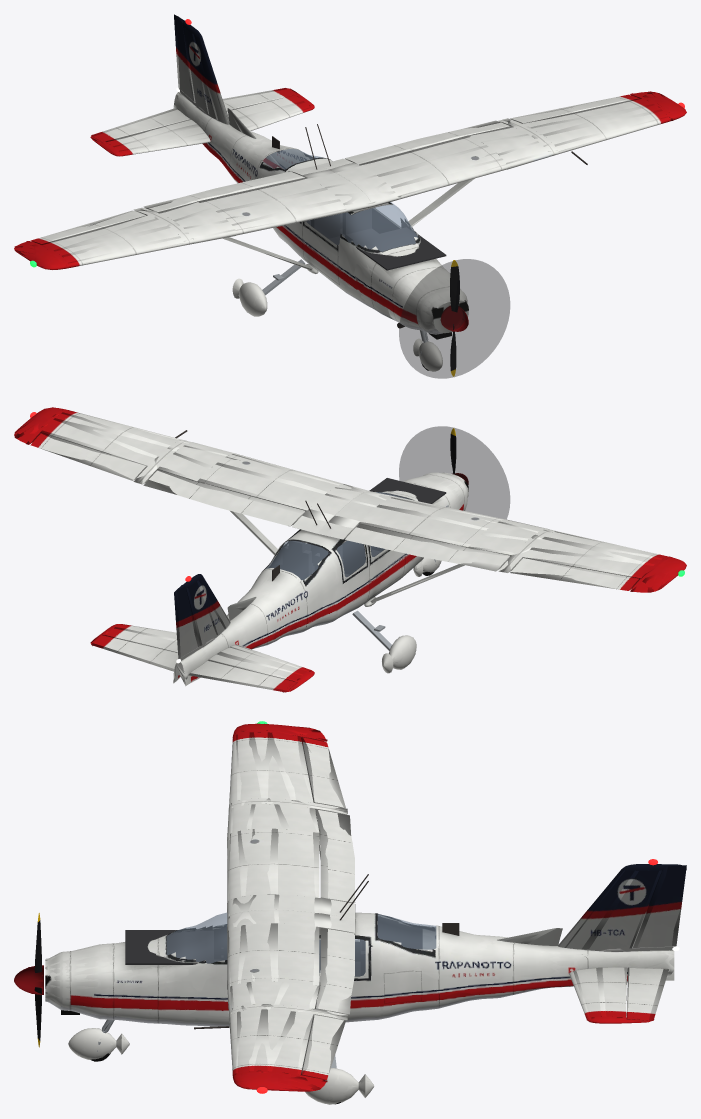
3 renders of one model, top to bottom at view 1: azimuth 30°, elevation 25°; view 2: azimuth 150°, elevation 25°; view 3: azimuth 270°, elevation 25°, orthographic. The views are drawn at different scales.
Parts seen in each view (by area): view 1: Skin_LOD2_mesh, Wing_L_LOD0_mesh, Wing_R_LOD0_mesh, Fuselage_LOD1_mesh, PropDisc_LOD0_mesh, Cabin_LOD0_mesh, Glass_LOD1_mesh, HStab_LOD0_mesh, Fin_LOD0_mesh, Glass_LOD0_mesh, Fuselage_LOD0_mesh, Flap_L_LOD0_mesh (+10 smaller); view 2: Skin_LOD2_mesh, Wing_L_LOD0_mesh, Wing_R_LOD0_mesh, Fuselage_LOD1_mesh, PropDisc_LOD0_mesh, Cabin_LOD0_mesh, HStab_LOD0_mesh, Flap_L_LOD0_mesh, Flap_R_LOD0_mesh, Glass_LOD1_mesh, Fuselage_LOD0_mesh, Fin_LOD0_mesh (+8 smaller); view 3: Skin_LOD2_mesh, Fuselage_LOD1_mesh, Wing_R_LOD0_mesh, Wing_L_LOD0_mesh, Cabin_LOD0_mesh, Fin_LOD0_mesh, Fuselage_LOD0_mesh, Glass_LOD1_mesh, HStab_LOD0_mesh, Glass_LOD0_mesh, Flap_R_LOD0_mesh, Rudder_LOD0_mesh (+7 smaller).
Boxes of the visible parts, bbox=[...] form: Skin_LOD2_mesh: bbox=[14, 14, 685, 334]; Wing_L_LOD0_mesh: bbox=[317, 92, 686, 206]; Wing_R_LOD0_mesh: bbox=[14, 165, 372, 269]; Fuselage_LOD1_mesh: bbox=[173, 92, 468, 334]; PropDisc_LOD0_mesh: bbox=[399, 259, 509, 377]; Cabin_LOD0_mesh: bbox=[306, 157, 446, 270]; Glass_LOD1_mesh: bbox=[264, 149, 416, 251]; HStab_LOD0_mesh: bbox=[91, 88, 313, 156]; Fin_LOD0_mesh: bbox=[176, 15, 229, 124]; Glass_LOD0_mesh: bbox=[264, 149, 415, 250]; Fuselage_LOD0_mesh: bbox=[174, 99, 461, 332]; Flap_L_LOD0_mesh: bbox=[345, 122, 509, 164]; Skin_LOD2_mesh: bbox=[14, 407, 685, 692]; Wing_L_LOD0_mesh: bbox=[14, 407, 369, 533]; Wing_R_LOD0_mesh: bbox=[317, 491, 686, 592]; Fuselage_LOD1_mesh: bbox=[173, 472, 468, 686]; PropDisc_LOD0_mesh: bbox=[399, 427, 509, 518]; Cabin_LOD0_mesh: bbox=[268, 478, 446, 579]; HStab_LOD0_mesh: bbox=[91, 624, 314, 691]; Flap_L_LOD0_mesh: bbox=[149, 470, 301, 526]; Flap_R_LOD0_mesh: bbox=[345, 527, 509, 570]; Glass_LOD1_mesh: bbox=[266, 492, 406, 579]; Fuselage_LOD0_mesh: bbox=[173, 474, 468, 685]; Fin_LOD0_mesh: bbox=[176, 574, 230, 660]; Skin_LOD2_mesh: bbox=[14, 723, 686, 1091]; Fuselage_LOD1_mesh: bbox=[45, 912, 674, 1026]; Wing_R_LOD0_mesh: bbox=[227, 723, 354, 918]; Wing_L_LOD0_mesh: bbox=[227, 910, 354, 1091]; Cabin_LOD0_mesh: bbox=[125, 916, 422, 976]; Fin_LOD0_mesh: bbox=[558, 864, 681, 951]; Fuselage_LOD0_mesh: bbox=[46, 914, 673, 1022]; Glass_LOD1_mesh: bbox=[167, 913, 435, 975]; HStab_LOD0_mesh: bbox=[569, 967, 663, 1023]; Glass_LOD0_mesh: bbox=[167, 913, 435, 975]; Flap_R_LOD0_mesh: bbox=[316, 810, 354, 902]; Rudder_LOD0_mesh: bbox=[637, 865, 686, 947].
Bounding box in the file's own units: 11.13 × 2.85 × 8.58.
15 materials, 1 textured.
